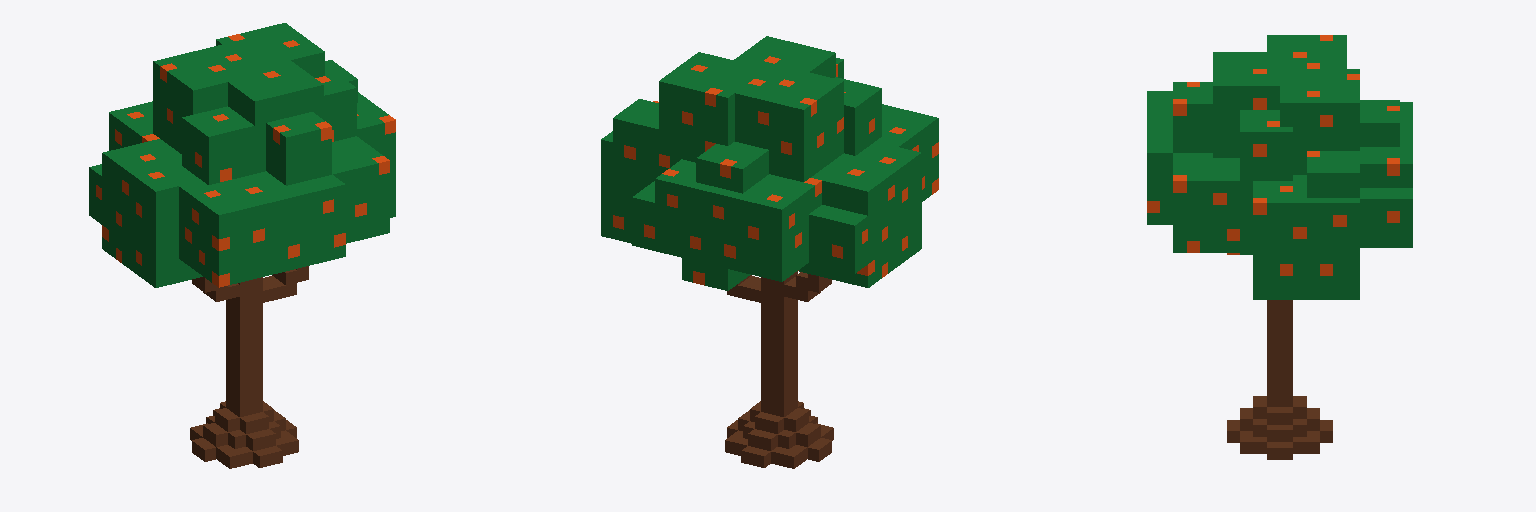
3 renders of one model, left to right at view 1: azimuth 30°, elevation 25°; view 2: azimuth 150°, elevation 25°; view 3: azimuth 270°, elevation 25°, orthographic.
Parts seen in each view (by area): view 1: object 1; view 2: object 1; view 3: object 1.
Boxes of the visible parts, x1=… form: object 1: x1=89, y1=23, x2=395, y2=468; object 1: x1=601, y1=36, x2=938, y2=468; object 1: x1=1147, y1=35, x2=1412, y2=459.
Size of the model in its own units: 2.2 by 3.1 by 2.
1 materials, 1 textured.